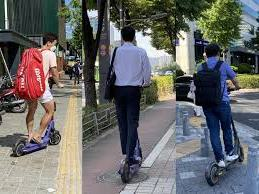nonhelmet: (104, 26, 154, 184), (192, 43, 246, 187), (8, 31, 63, 159)
